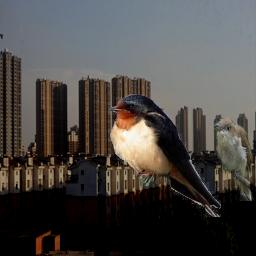Cuckoo: (214, 117, 254, 201)
Swallow: (108, 94, 221, 217)
